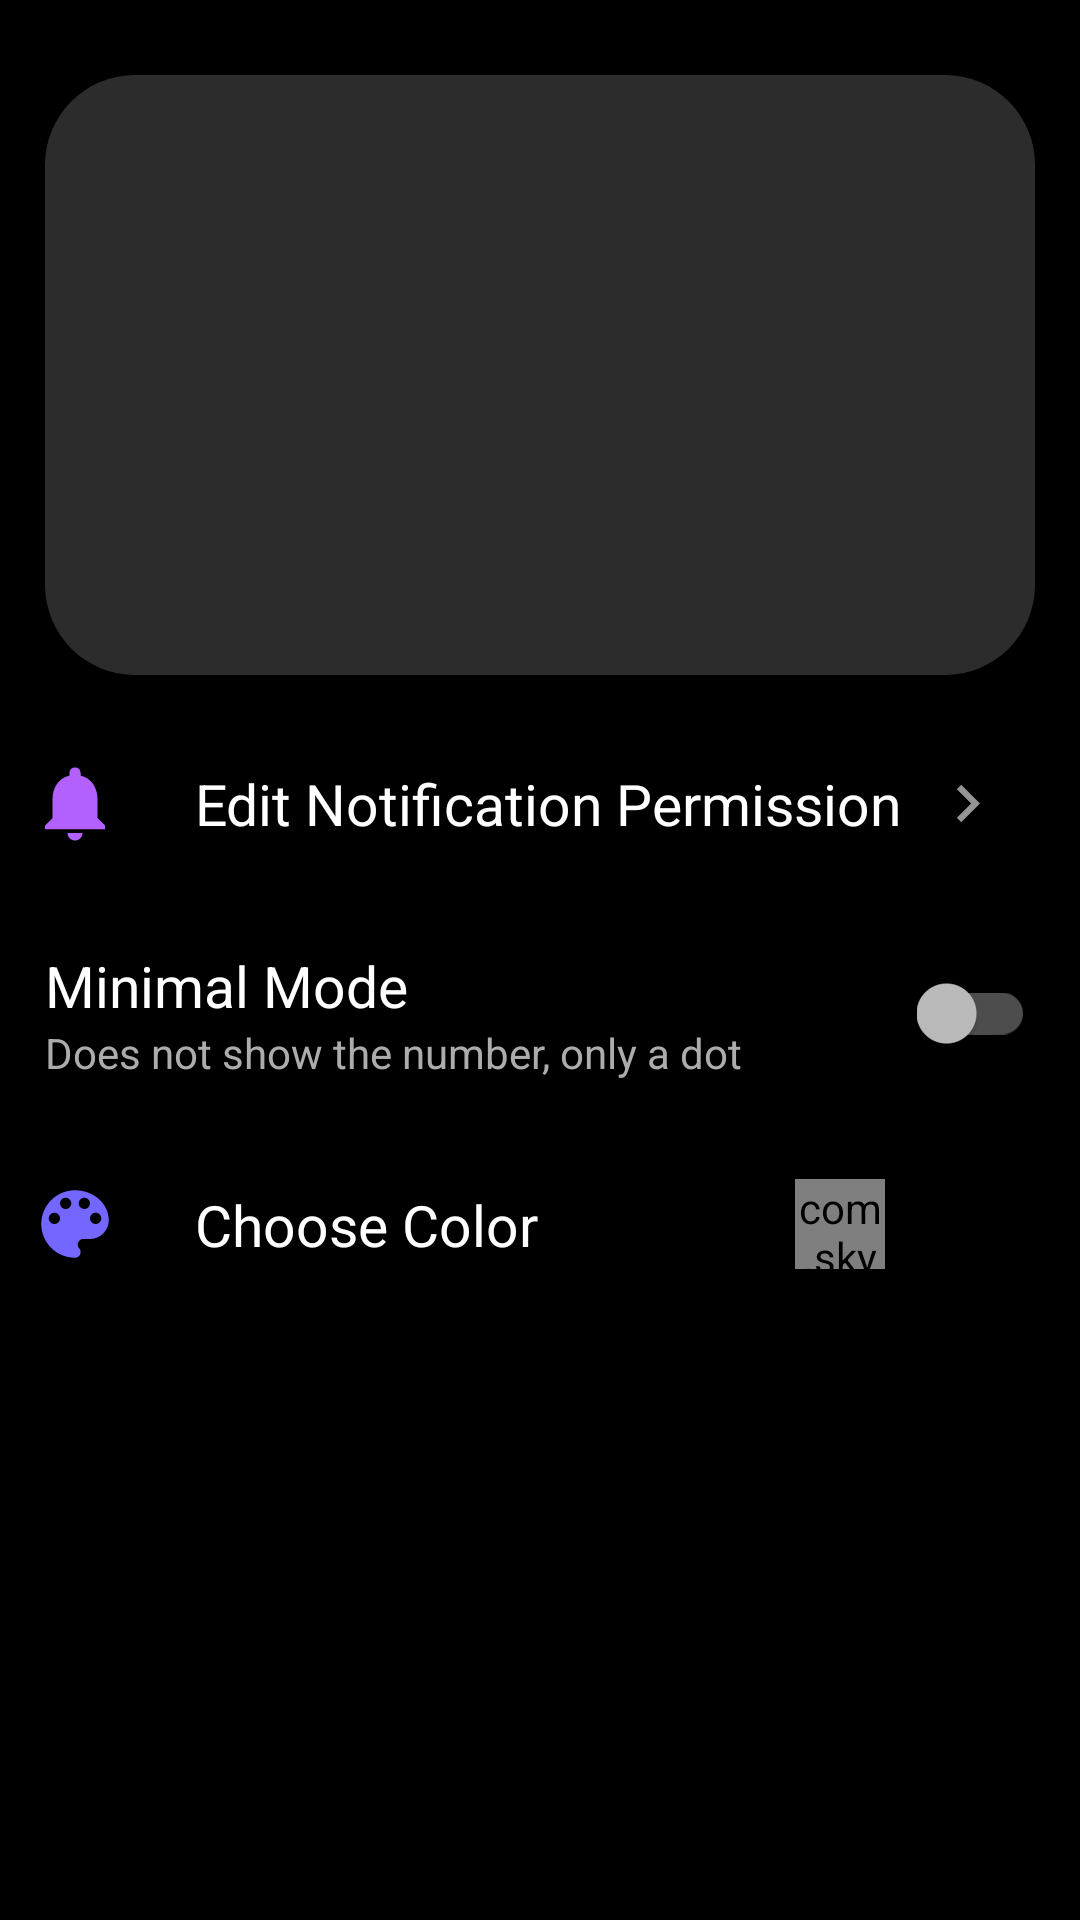

Icons on this 1080px×1920px Android screen, each with its box as (x1, y1, x2, y2):
navigate next: (957, 785, 980, 822)
notifications: (45, 767, 105, 841)
palette: (41, 1190, 109, 1258)
